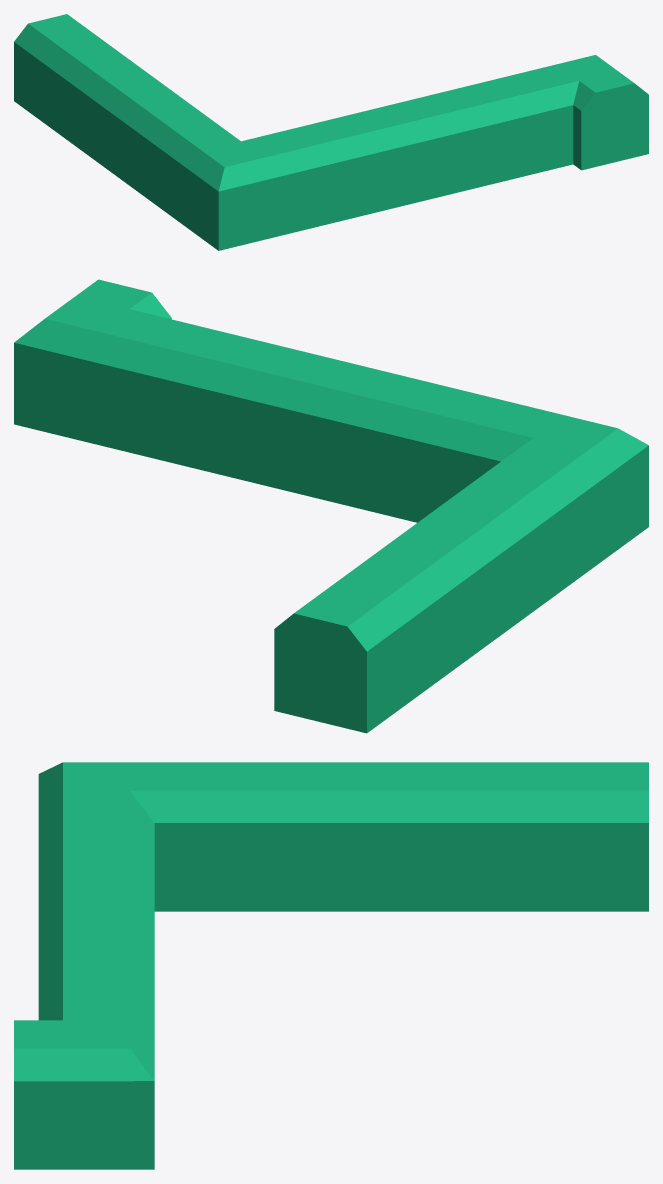
File: HedgeSnakeCorner.fbx
3 renders of one model, top to bottom at view 1: azimuth 30°, elevation 25°; view 2: azimuth 150°, elevation 25°; view 3: azimuth 270°, elevation 25°, orthographic. The views are drawn at different scales.
Parts seen in each view (by area): view 1: hedgeCorner003; view 2: hedgeCorner003; view 3: hedgeCorner003.
Part boxes in pixels (bbox=[...]): hedgeCorner003: bbox=[14, 14, 648, 250]; hedgeCorner003: bbox=[14, 279, 648, 733]; hedgeCorner003: bbox=[14, 762, 648, 1169].
Bounding box in the file's own units: 119 × 20 × 104.
